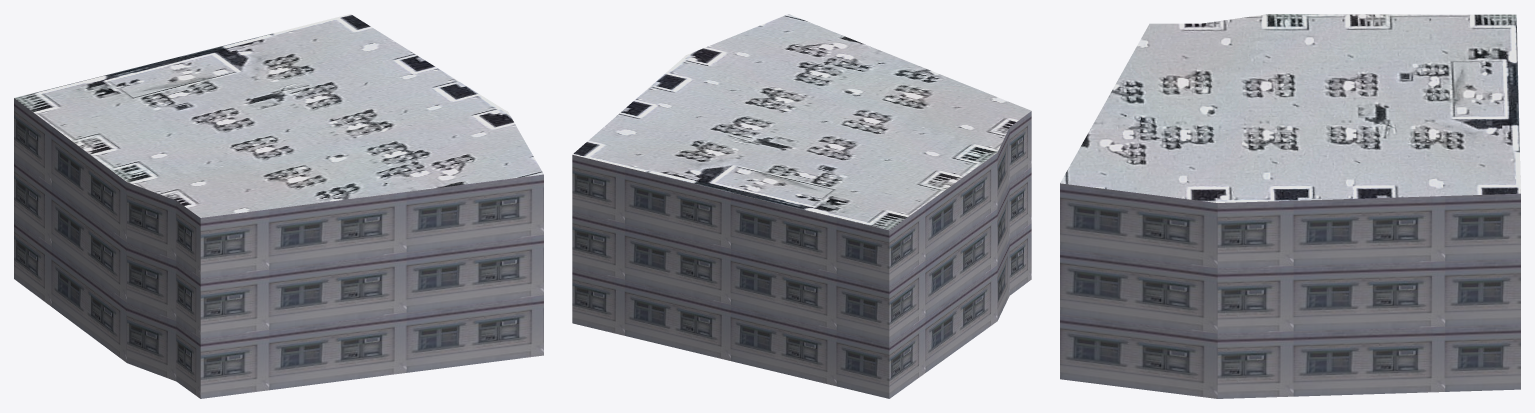
Rendered from ResTex__4724.fbx.
3 views of the same model, side by side, from view 1: azimuth 30°, elevation 25°; view 2: azimuth 150°, elevation 25°; view 3: azimuth 270°, elevation 25° (orthographic). The views are drawn at different scales.
Parts seen in each view (by area): view 1: CityEngineMaterial_1_m, CityEngineMaterial_4_m; view 2: CityEngineMaterial_1_m, CityEngineMaterial_4_m; view 3: CityEngineMaterial_1_m, CityEngineMaterial_4_m.
Boxes of the visible parts, x1,y1,x2,y2 form: CityEngineMaterial_1_m: [14, 98, 543, 398]; CityEngineMaterial_4_m: [14, 14, 543, 217]; CityEngineMaterial_1_m: [572, 111, 1031, 398]; CityEngineMaterial_4_m: [572, 14, 1031, 230]; CityEngineMaterial_1_m: [1060, 183, 1520, 398]; CityEngineMaterial_4_m: [1060, 14, 1520, 202].
Size of the model in its own units: 18.62 by 9 by 19.18.
2 materials, 2 textured.
